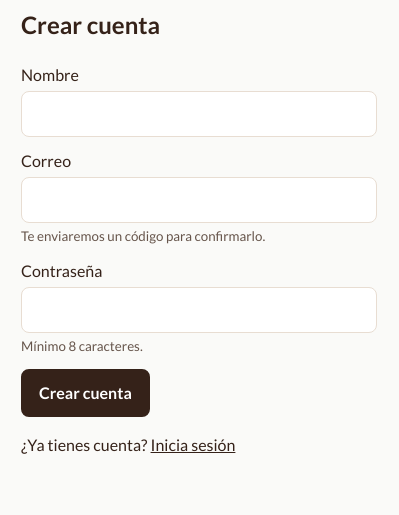
RegistroPage › pide el correo cuando está vacío
Type "Ana López" into the field labelled "Nombre".
click(199, 114); type("Ana López")  # box [21,91,377,137]
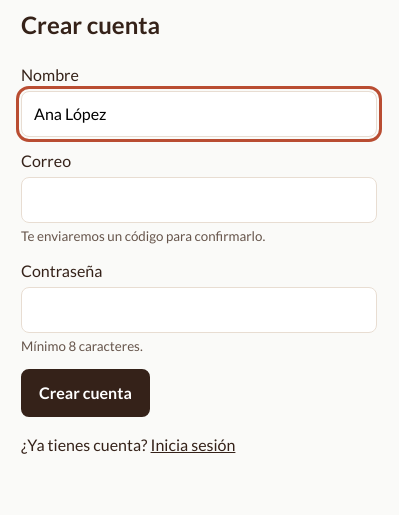
Type "clave12345" into the password field labelled "Contraseña".
click(199, 310); type("clave12345")  # box [21,287,377,333]
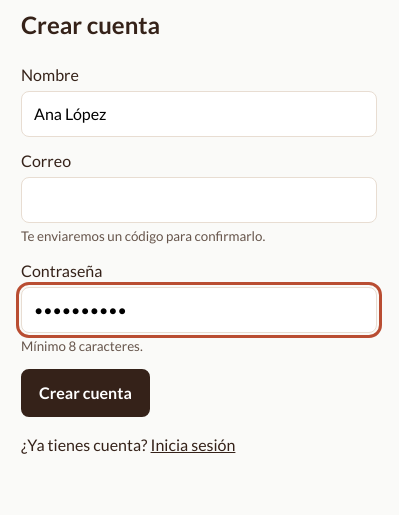
Click the button "Crear cuenta".
click(85, 393)  # box [21,369,150,417]
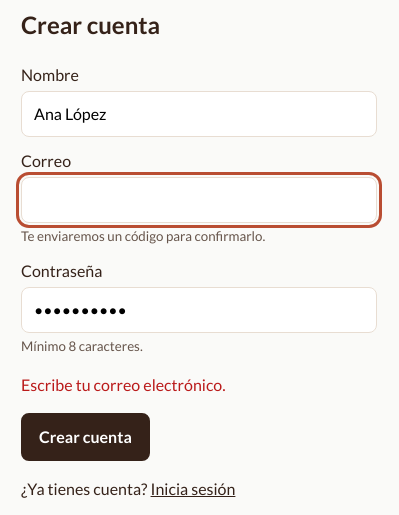
Expected: the message reads "Escribe tu correo electrónico.", [21,375,226,394]
